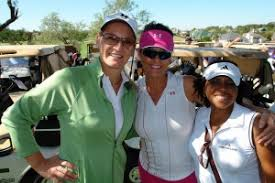person: (73, 8, 140, 111), (197, 53, 263, 146), (135, 21, 196, 103)
